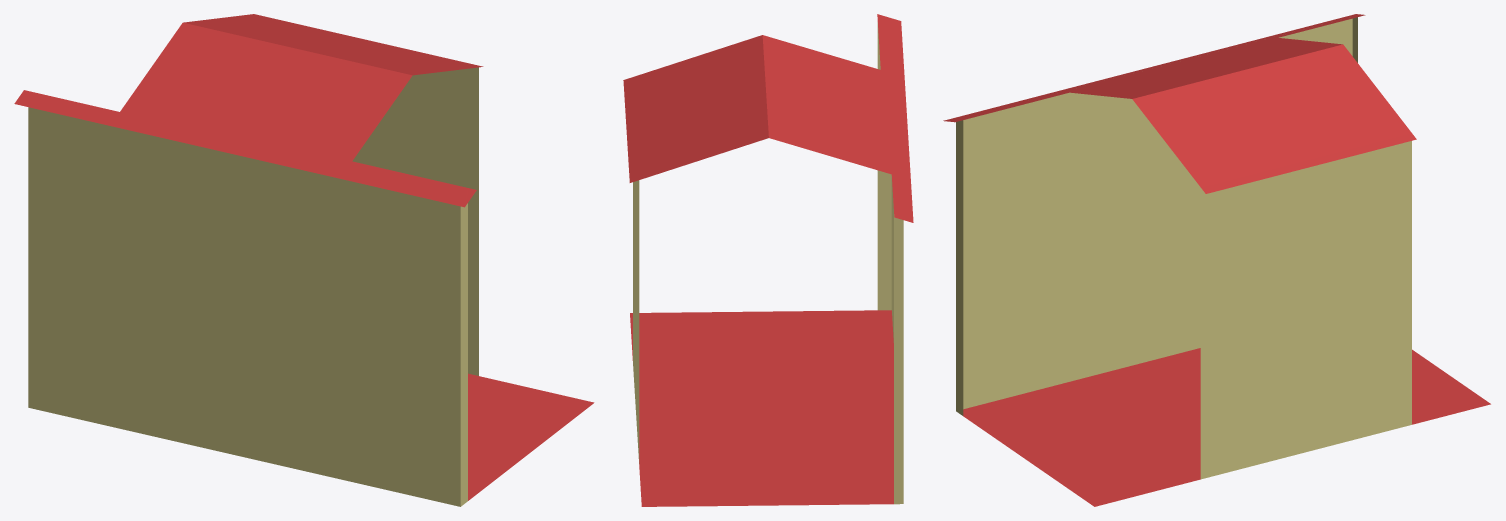
3 views of the same model, side by side, from view 1: azimuth 30°, elevation 25°; view 2: azimuth 150°, elevation 25°; view 3: azimuth 270°, elevation 25° (orthographic). The views are drawn at different scales.
Bounding box in the file's own units: 12.39 × 14.09 × 9.43.
